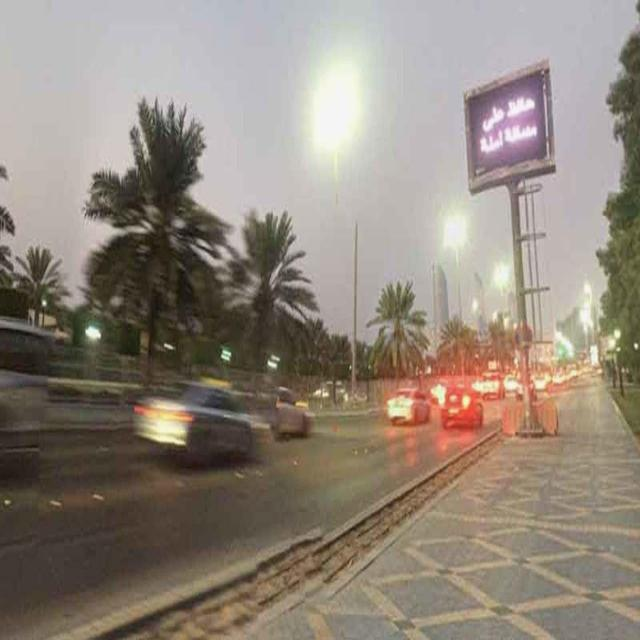Car: (131, 394, 253, 452), (263, 386, 314, 442), (439, 388, 484, 430), (386, 388, 430, 426)
